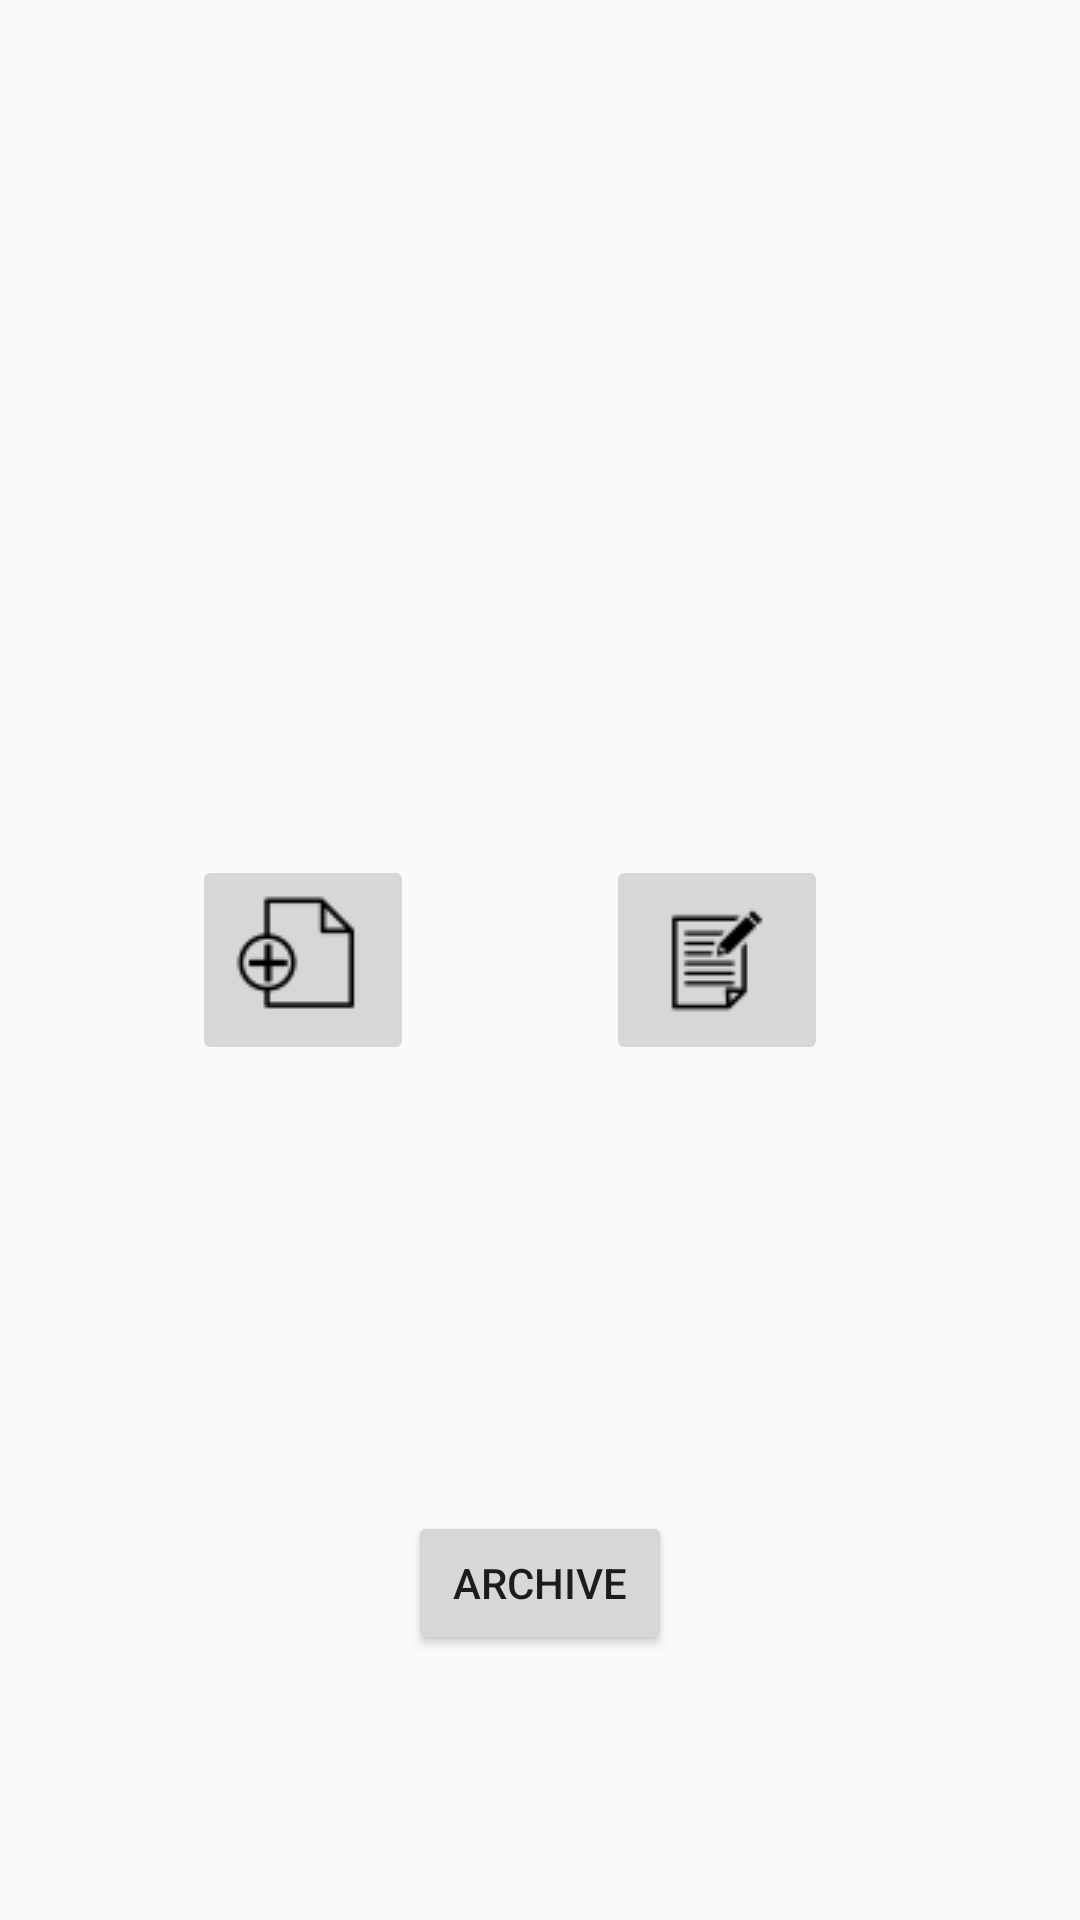

Icon bounding boxes for this 1080px×1920px phone screenshot, format (x1, y1, x2, y2):
add: (204, 873, 402, 1047)
memo: (618, 873, 816, 1047)
